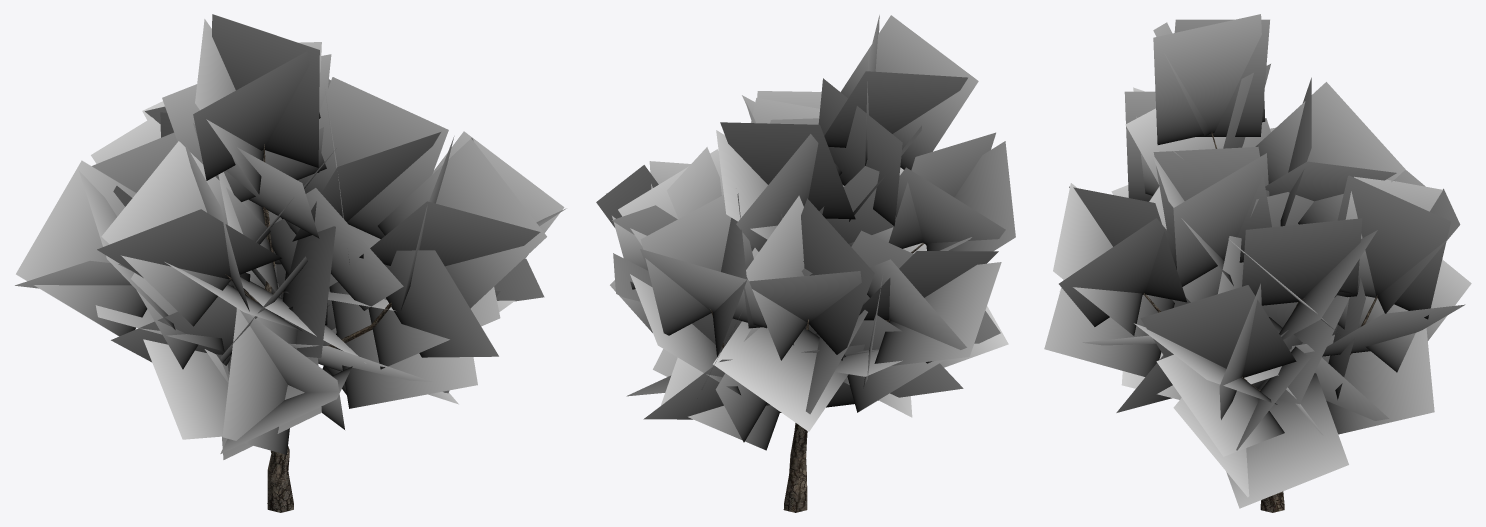
Rendered from tree10A.fbx.
3 renders of one model, left to right at view 1: azimuth 30°, elevation 25°; view 2: azimuth 150°, elevation 25°; view 3: azimuth 270°, elevation 25°, orthographic. The views are drawn at different scales.
Parts seen in each view (by area): view 1: tree10_trunk; view 2: tree10_trunk; view 3: tree10_trunk.
Boxes of the visible parts, left/top/right/bottom form: tree10_trunk: left=15, top=14, right=566, bottom=512; tree10_trunk: left=596, top=15, right=1015, bottom=512; tree10_trunk: left=1044, top=14, right=1471, bottom=512.
Bounding box in the file's own units: 4.99 × 5.07 × 4.27.
